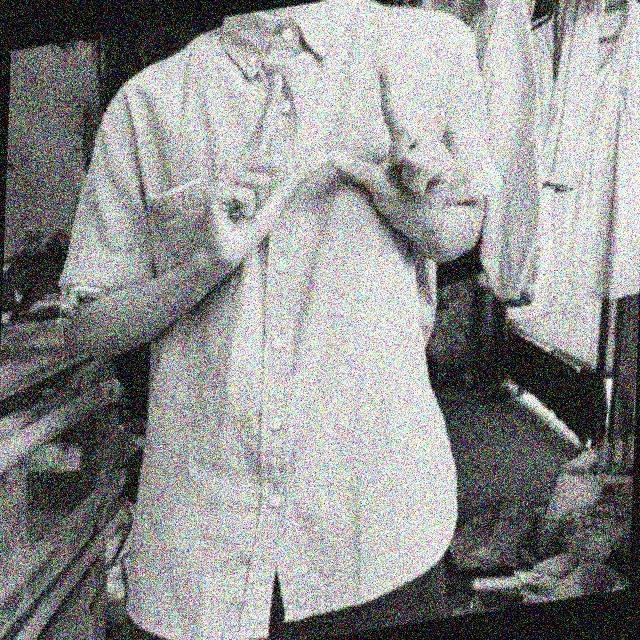W: (192, 51, 462, 276)
